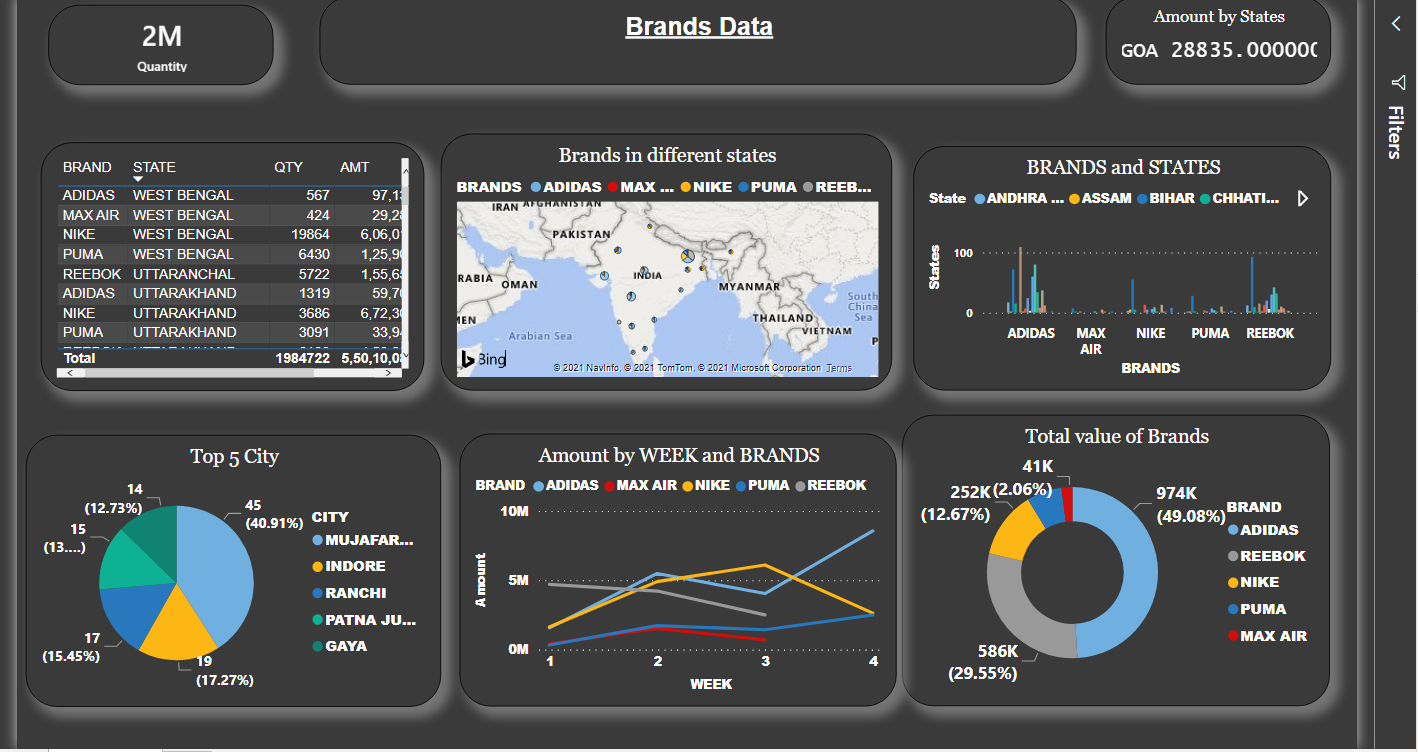

This screenshot's page, from the dashboard's own definition file:
{"tool":"powerbi","page":{"name":"Sample_1","canvas":[1280,720],"ordinal":0},"visuals":[{"type":"map","title":"Brands in different states","fields":{"Category":["Sheet1.STATE"],"Size":["CountNonNull(Sheet1.BRAND)"],"Series":["Sheet1.BRAND"]},"box":[404.8,131.3,431,246],"z":0},{"type":"donutChart","title":"Total value of Brands","fields":{"Category":["Sheet1.BRAND"],"Y":["Sum(Sheet1.QTY)"]},"box":[845.8,400.5,409,278.3],"z":1000},{"type":"pieChart","title":"Top 5 City","fields":{"Category":["Sheet1.CITY"],"Y":["CountNonNull(Sheet1.BRAND)"]},"box":[8.5,418.7,396.9,260.2],"z":2000},{"type":"textbox","box":[289,0,723.6,84.8],"z":3000},{"type":"clusteredColumnChart","title":"BRANDS and STATES","fields":{"Y":["CountNonNull(Sheet1.BRAND)"],"Category":["Sheet1.BRAND"],"Series":["Sheet1.STATE"]},"box":[855.5,142.8,399.3,233.5],"z":4000},{"type":"lineChart","title":"Amount by WEEK and BRANDS","fields":{"Y":["Sum(Sheet1.AMT)"],"Category":["Sheet1.WEEK"],"Series":["Sheet1.BRAND"]},"box":[423,417.5,417.5,260.9],"z":5000},{"type":"rotatingTile1859AB39DB23400988ADF752BCB9C967","fields":{"measureData":["Sum(Sheet1.QTY)","Sum(Sheet1.AMT)"]},"box":[29.9,8.4,214.9,76.4],"z":6000},{"type":"ScrollingTextVisual1448795304508","title":"Amount by States","fields":{"Category":["Sheet1.STATE"],"Measure Absolute":["Sum(Sheet1.AMT)"]},"box":[1040,0,214.9,84.8],"z":7000},{"type":"tableEx","fields":{"Values":["Sheet1.BRAND","Sheet1.STATE","Sum(Sheet1.QTY)","Sum(Sheet1.AMT)","Sum(Sheet1.WEEK)"]},"box":[22.7,139.7,366.6,237.6],"z":8000}]}

Visuals, with their boxes on the page's 1280x720 design canvas (x1, y1, x2, y2). These are canvas units, not pixel positions in the 1418x752 screenshot, which may show the page scaled, cropped or inside an application window:
"Brands in different states" map: (405,131,836,377)
"Total value of Brands" donutChart: (846,400,1255,679)
"Top 5 City" pieChart: (8,419,405,679)
textbox: (289,0,1013,85)
"BRANDS and STATES" clusteredColumnChart: (856,143,1255,376)
"Amount by WEEK and BRANDS" lineChart: (423,418,840,678)
rotatingTile1859AB39DB23400988ADF752BCB9C967 - Sum(Sheet1.QTY) x Sum(Sheet1.AMT): (30,8,245,85)
"Amount by States" ScrollingTextVisual1448795304508: (1040,0,1255,85)
tableEx - Sheet1.BRAND x Sheet1.STATE: (23,140,389,377)
